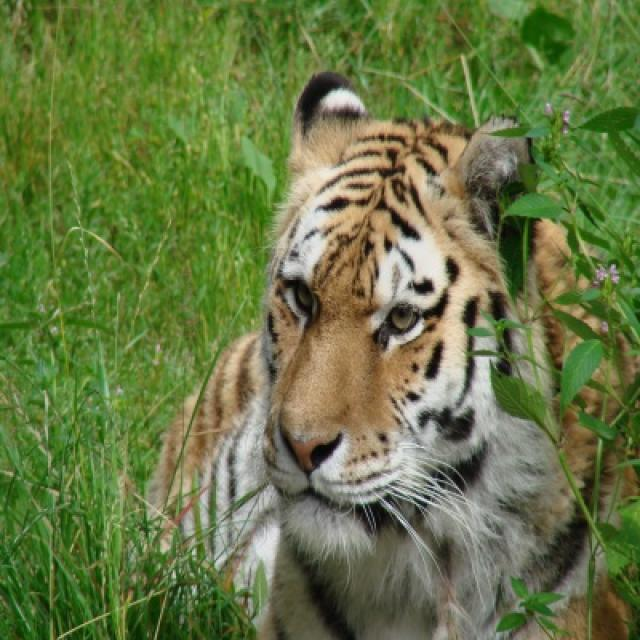Tiger: (142, 69, 587, 638)
